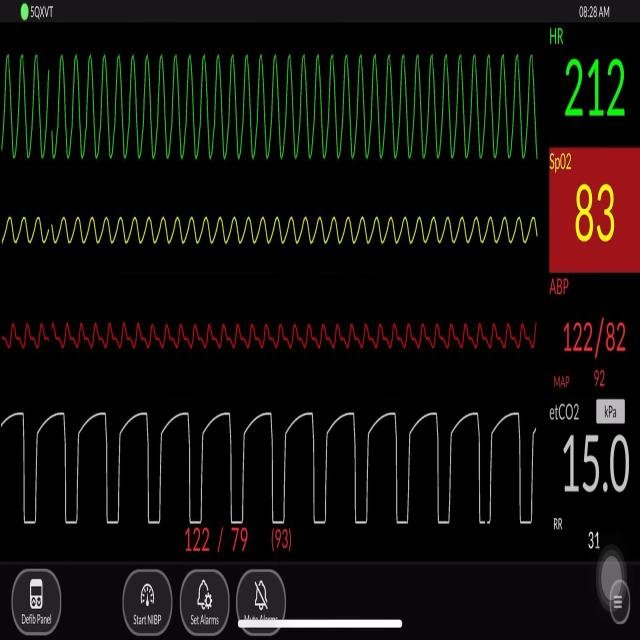danger: (9, 54, 538, 171)
